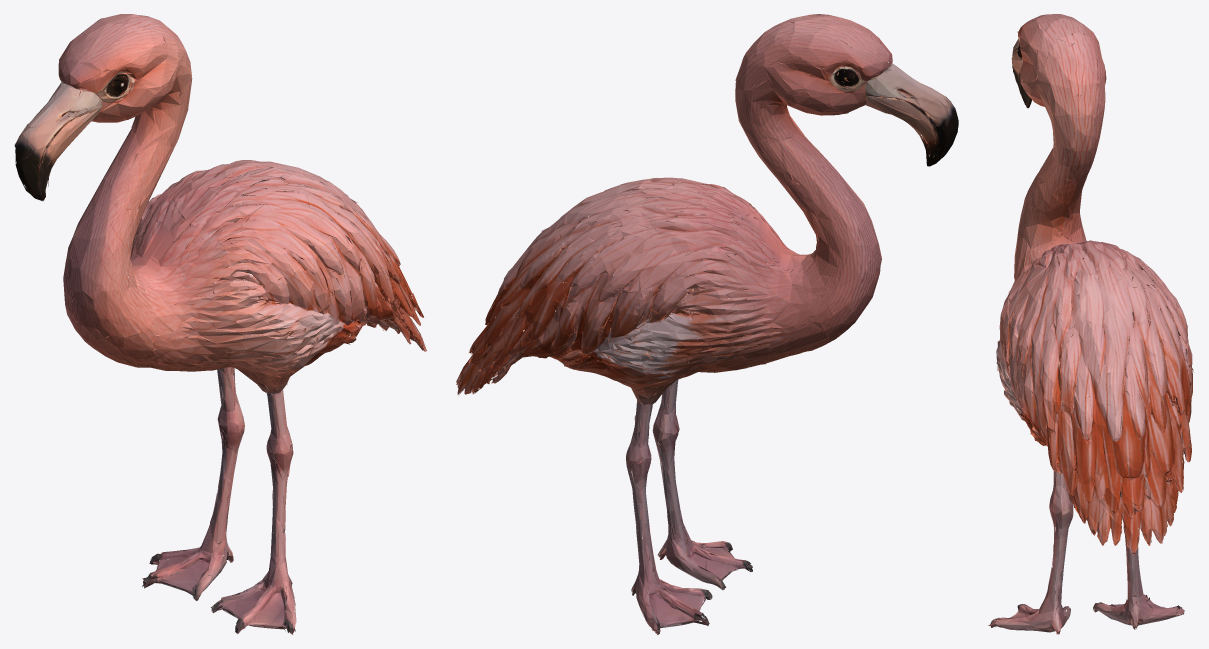
The model's file is flamenco.fbx.
3 views of the same model, side by side, from view 1: azimuth 30°, elevation 25°; view 2: azimuth 150°, elevation 25°; view 3: azimuth 270°, elevation 25° (orthographic). The views are drawn at different scales.
Parts seen in each view (by area): view 1: flamenco; view 2: flamenco; view 3: flamenco.
Boxes of the visible parts, x1,y1,x2,y2 form: flamenco: (14, 14, 426, 634); flamenco: (456, 14, 958, 634); flamenco: (988, 14, 1193, 634).
Size of the model in its own units: 1.56 by 1.99 by 0.6808.
1 material, 1 textured.
